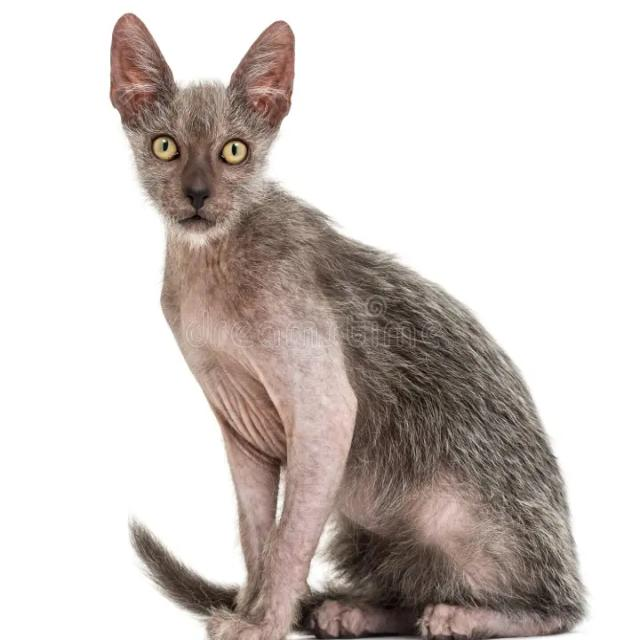Lykoi: (98, 0, 591, 640)
